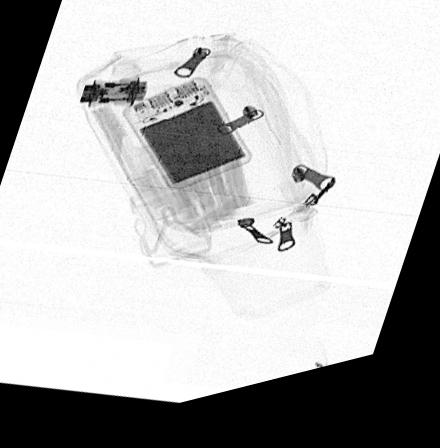Powerbank: (119, 86, 254, 199)
